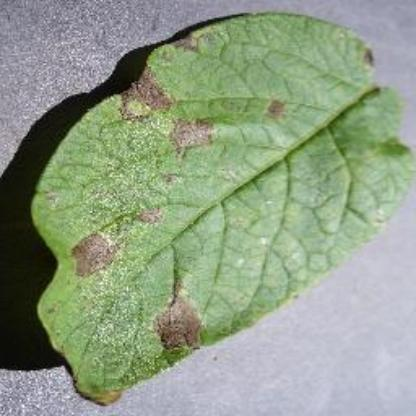Early-Blight: (30, 10, 416, 406)
